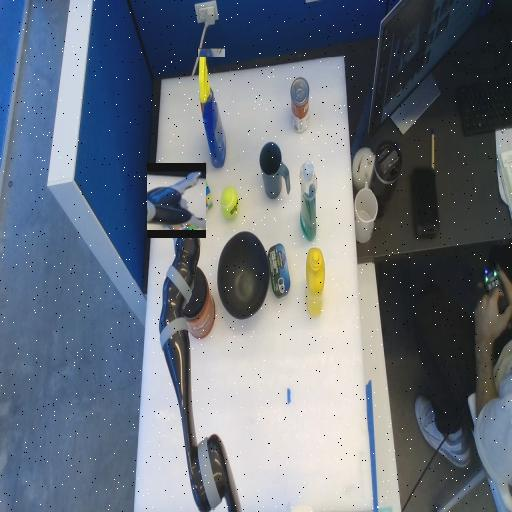bowl: (217, 250, 268, 302)
cleanser: (299, 193, 316, 209)
coffee_can: (176, 267, 214, 338)
jaco: (147, 172, 206, 230)
meat_can: (267, 261, 289, 282)
mug: (259, 143, 289, 199)
mustard_bottle: (305, 273, 324, 292)
rubik: (190, 174, 212, 217)
soup_can: (291, 78, 308, 133)
tennis_ball: (221, 195, 238, 212)
windex: (198, 49, 225, 167)
wooden_block: (171, 208, 195, 254)
workspace: (135, 57, 372, 509)
